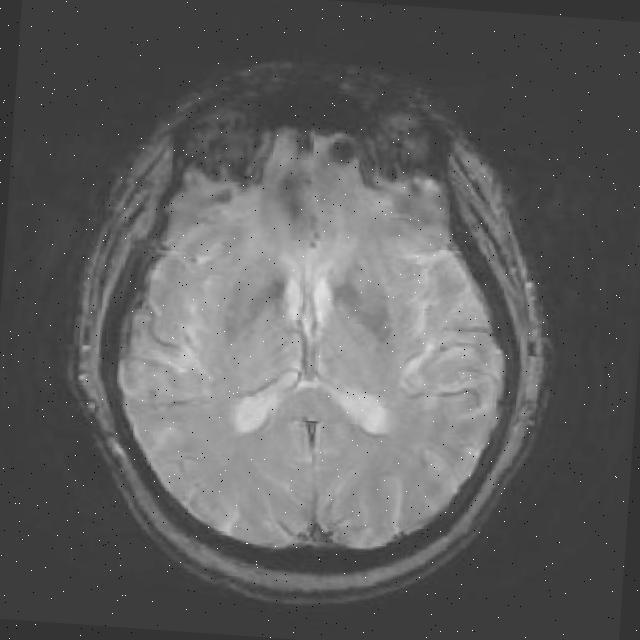EMCI: (341, 257, 405, 345), (233, 240, 276, 342), (274, 184, 329, 238)
